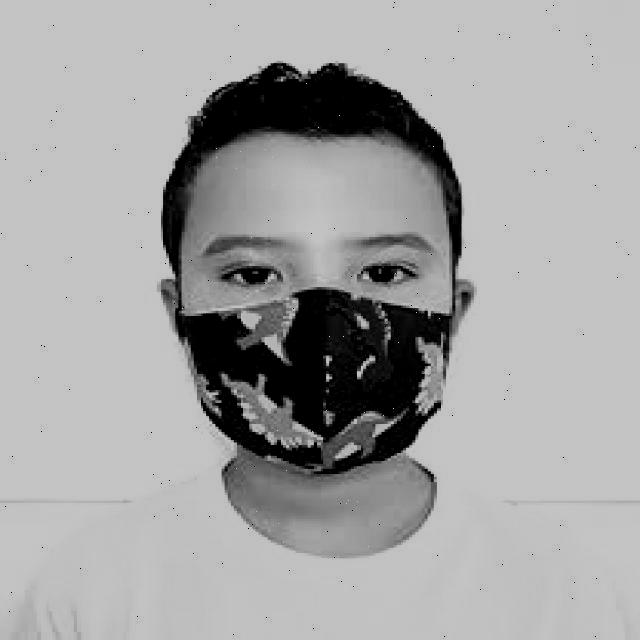fake: (172, 275, 458, 477)
real: (180, 131, 449, 481)
